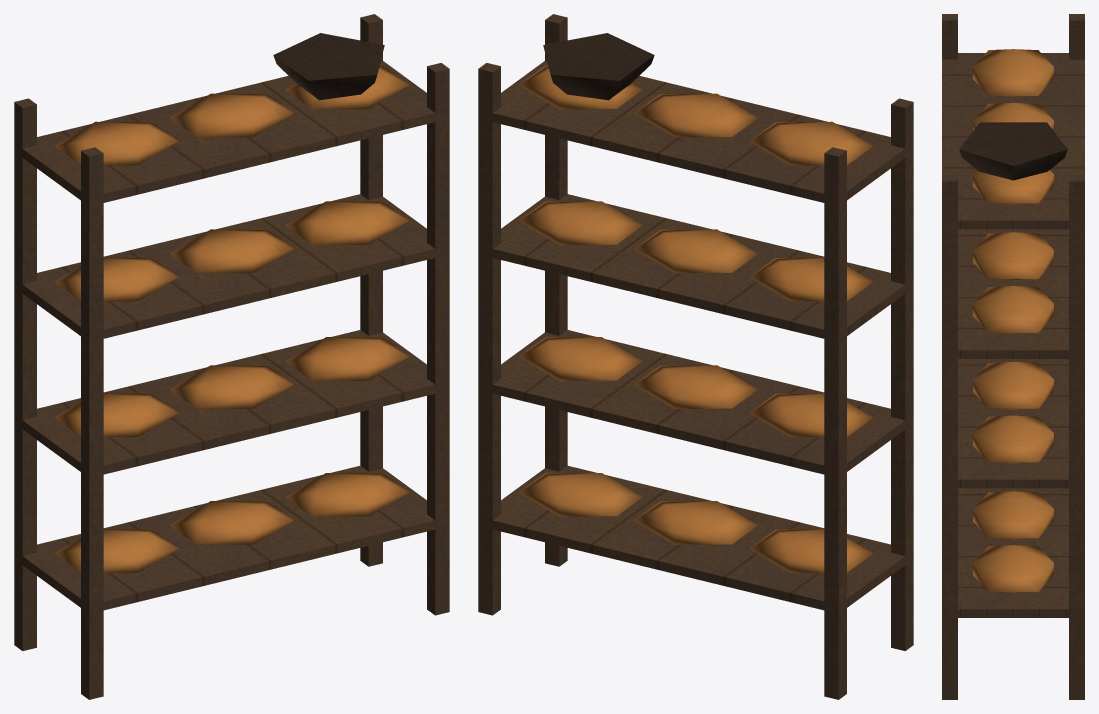
The model's file is bread_rack_lod2.glb.
The picture shows the model from 3 angles, left to right: view 1: azimuth 30°, elevation 25°; view 2: azimuth 150°, elevation 25°; view 3: azimuth 270°, elevation 25°; orthographic projection. The views are drawn at different scales.
Parts seen in each view (by area): view 1: bread_rack; view 2: bread_rack; view 3: bread_rack.
Part boxes in pixels (<box>): bread_rack: <box>14,14,449,699</box>; bread_rack: <box>478,14,913,699</box>; bread_rack: <box>942,14,1084,699</box>.
Size of the model in its own units: 1.25 by 1.81 by 0.45.
1 material, 1 textured.
